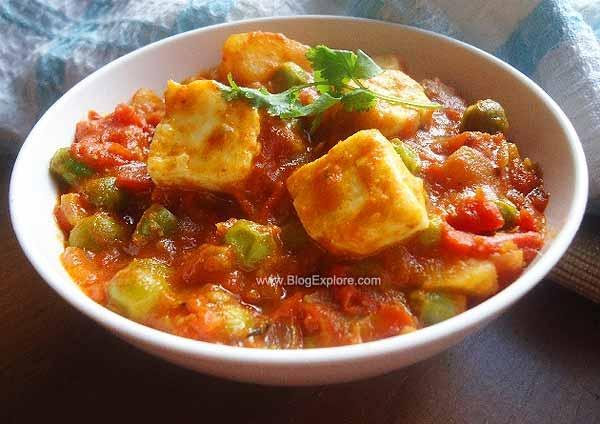paneer: (146, 98, 414, 270)
